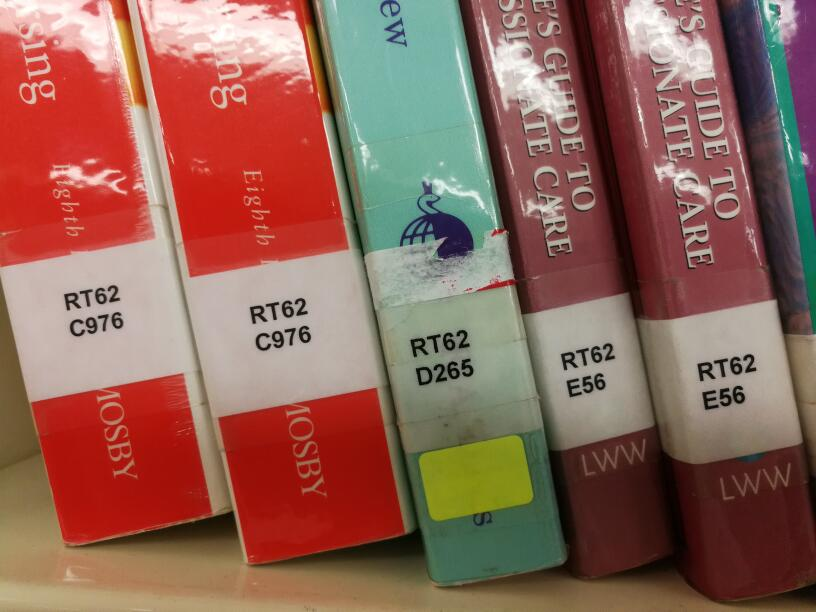booklabel: (407, 326, 477, 388), (247, 294, 315, 354), (695, 350, 760, 411), (59, 282, 128, 339), (558, 339, 619, 399)
